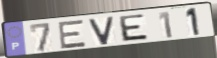1: (185, 6, 202, 38), (158, 10, 174, 39)
7: (28, 21, 52, 53)
E: (58, 19, 88, 51), (119, 13, 151, 43)
V: (87, 15, 116, 47)
